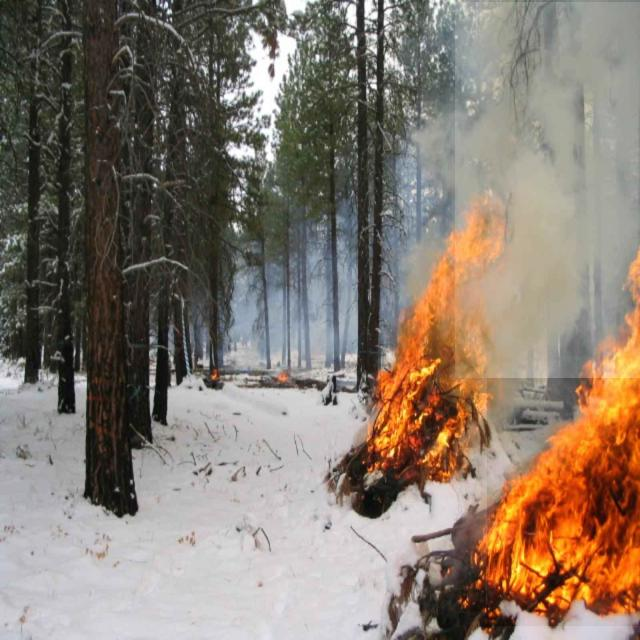Fire: (487, 259, 640, 626), (381, 193, 504, 482)
Smoke: (455, 2, 640, 378)
